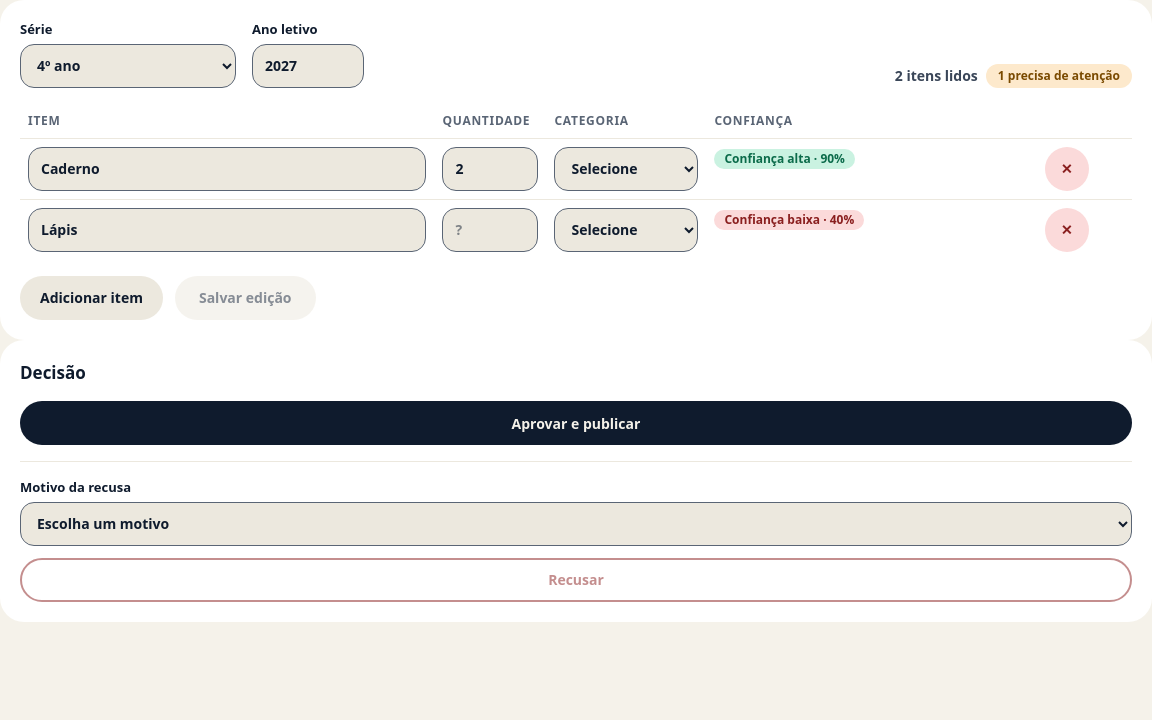
Scenario: DecisionPanel › resultado pending
Click the button "Aprovar e publicar". click: [576, 423]
box: [20,401,1132,445]
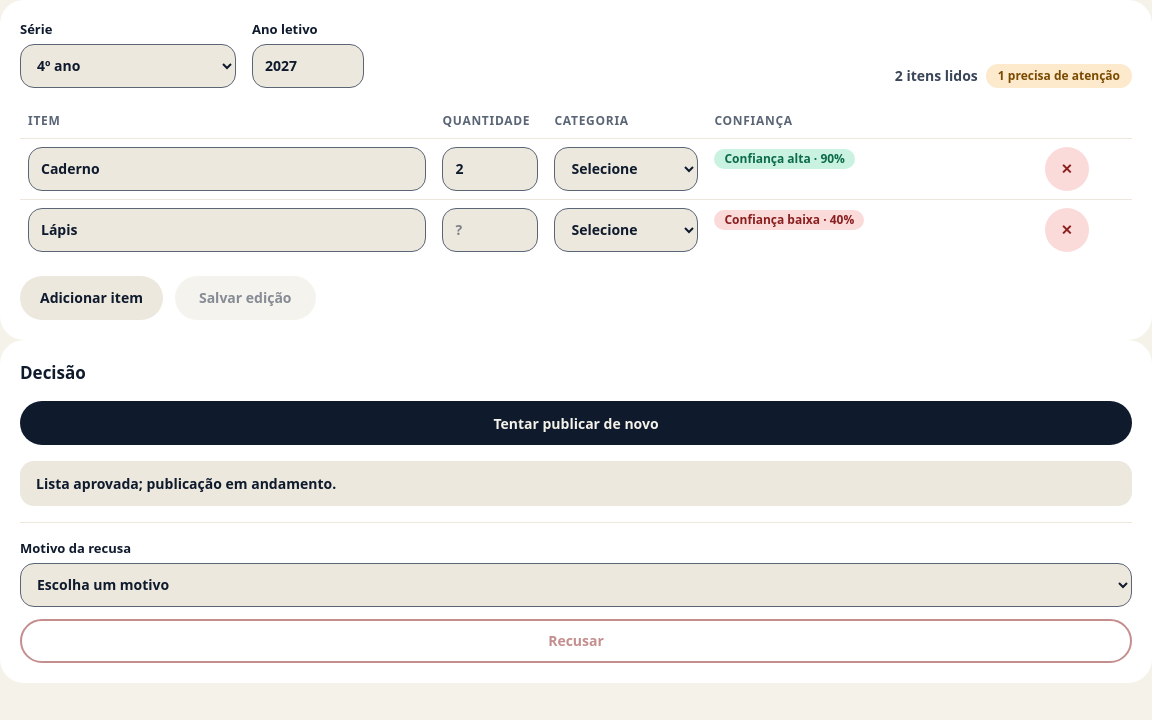
Now the message reads "Lista aprovada; publicação em andamento.", box [36,474,336,493]
Now the button "Tentar publicar de novo" is shown, box [20,401,1132,445]
